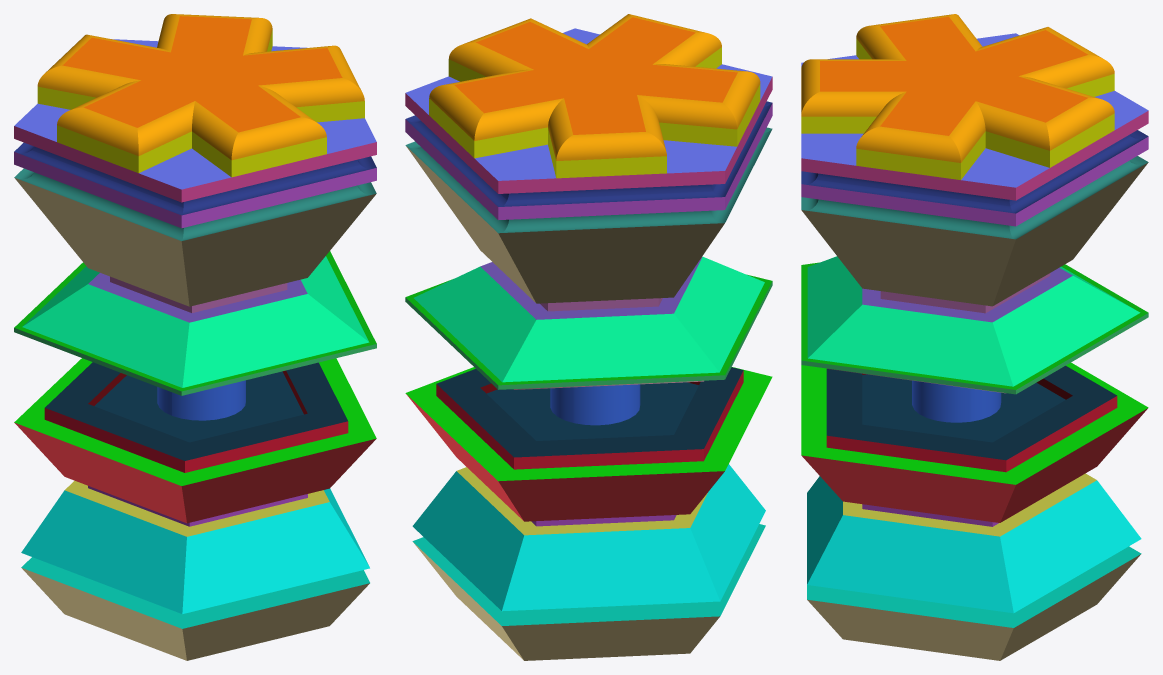
File: Iteration2Colored.fbx
3 views of the same model, side by side, from view 1: azimuth 30°, elevation 25°; view 2: azimuth 150°, elevation 25°; view 3: azimuth 270°, elevation 25° (orthographic).
Parts seen in each view (by area): view 1: Model; view 2: Model; view 3: Model.
Boxes of the visible parts, x1=… form: Model: x1=14, y1=14, x2=376, y2=660; Model: x1=405, y1=14, x2=772, y2=660; Model: x1=801, y1=14, x2=1148, y2=660.
Size of the model in its own units: 705 by 1124 by 670.
